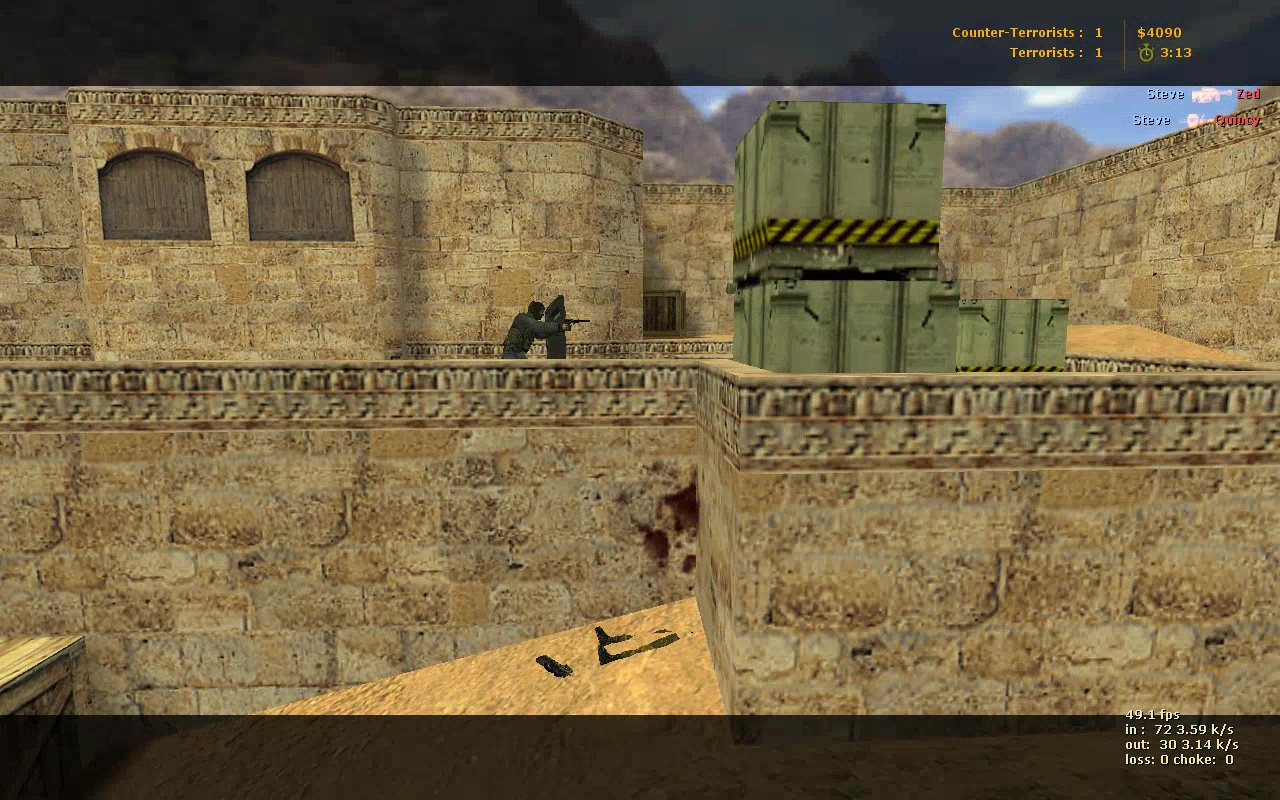ct: (504, 296, 570, 409)
